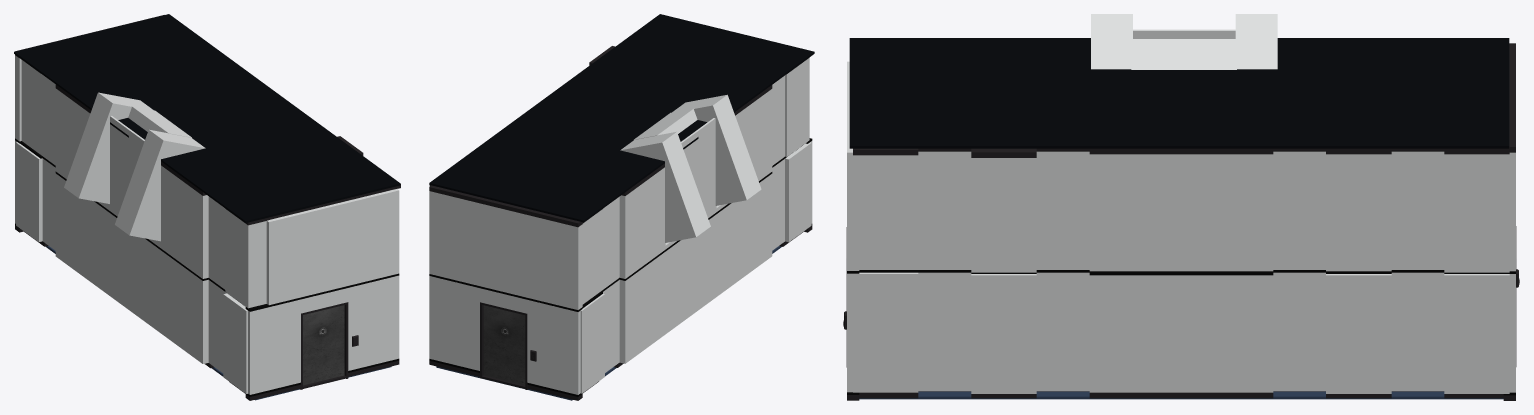
File: SCP Fan Room.obj
3 renders of one model, left to right at view 1: azimuth 30°, elevation 25°; view 2: azimuth 150°, elevation 25°; view 3: azimuth 270°, elevation 25°, orthographic. The views are drawn at different scales.
Visible parts, largest first — view 1: Part155, Part159, Part125, Part45, Part55, Part115, Part161, Part1, Part52, Door5, Part33, Part50 (+14 smaller); view 2: Part155, Part117, Part159, Part145, Part37, Part1, Part115, Part153, Door2, Part50, Part161, Part33 (+12 smaller); view 3: Part155, Part100, Part102, Part11, Part40, Part94, Part111, Part42, Part96, Part113, Part13, Part21 (+25 smaller).
Boxes of the visible parts, x1,y1,x2,y2 form: Part155: (14,14,400,222); Part159: (55,173,208,363); Part125: (266,189,399,305); Part45: (246,299,300,394); Part55: (348,275,399,370); Part115: (115,129,205,241); Part161: (156,165,208,278); Part1: (64,92,153,203); Part52: (225,209,266,308); Door5: (303,305,344,385); Part33: (16,142,42,241); Part50: (223,293,247,393); Part155: (429,14,814,222); Part117: (429,191,582,309); Part159: (619,174,772,363); Part145: (527,300,580,394); Part37: (429,276,480,370); Part1: (620,131,710,242); Part115: (672,94,761,205); Part153: (619,167,665,278); Door2: (483,305,525,385); Part50: (785,142,811,242); Part161: (726,89,772,204); Part33: (580,293,604,393); Part155: (849,38,1509,148); Part100: (1089,275,1273,392); Part102: (1089,154,1273,271); Part11: (853,272,918,392); Part40: (1444,274,1509,393); Part94: (1326,274,1391,393); Part111: (971,274,1036,393); Part42: (1444,154,1509,272); Part96: (1326,154,1391,271); Part113: (971,158,1036,272); Part13: (859,155,918,269); Part21: (918,151,971,269).
Bounding box in the file's own units: 20.29 × 20.24 × 43.46.
Materials: 11 (2 with a texture image).
